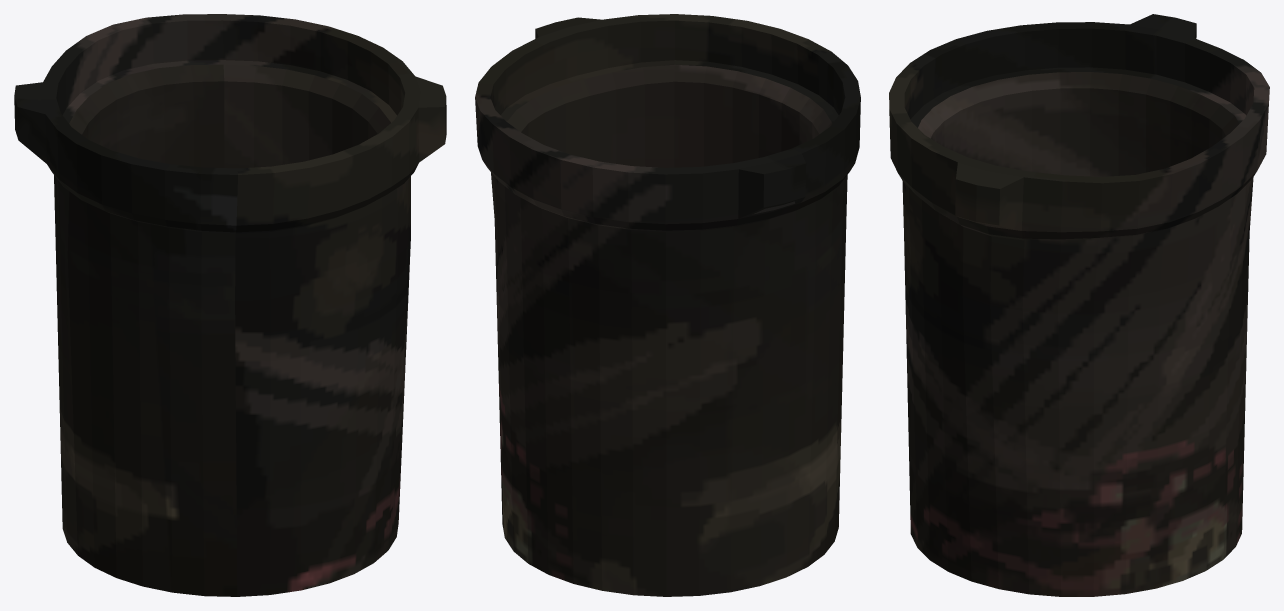
Rendered from SM_Kitchencan.fbx.
3 views of the same model, side by side, from view 1: azimuth 30°, elevation 25°; view 2: azimuth 150°, elevation 25°; view 3: azimuth 270°, elevation 25° (orthographic).
Parts seen in each view (by area): view 1: SM_trshcankitch; view 2: SM_trshcankitch; view 3: SM_trshcankitch.
Boxes of the visible parts, x1=… form: SM_trshcankitch: x1=14, y1=14, x2=446, y2=596; SM_trshcankitch: x1=475, y1=14, x2=860, y2=596; SM_trshcankitch: x1=889, y1=14, x2=1269, y2=596.
Size of the model in its own units: 74.47 by 88.87 by 71.31.
